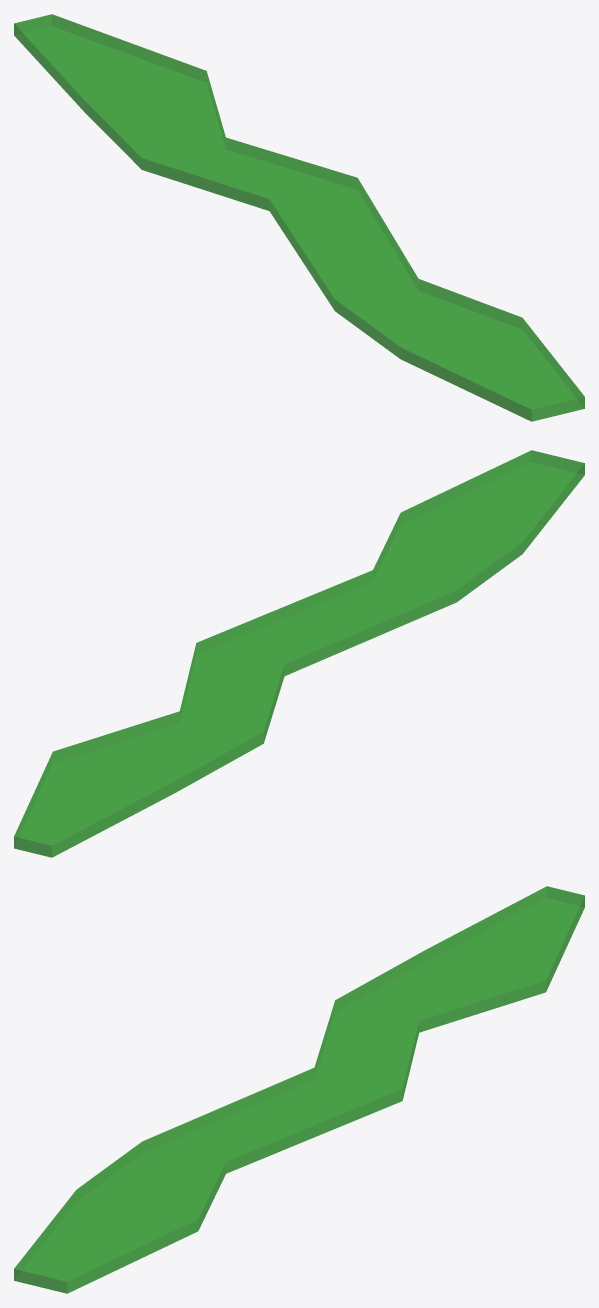
File: Road_H.obj
3 views of the same model, one above another, from view 1: azimuth 30°, elevation 25°; view 2: azimuth 150°, elevation 25°; view 3: azimuth 330°, elevation 25° (orthographic).
Bounding box in the file's own units: 37.19 × 3 × 239.
